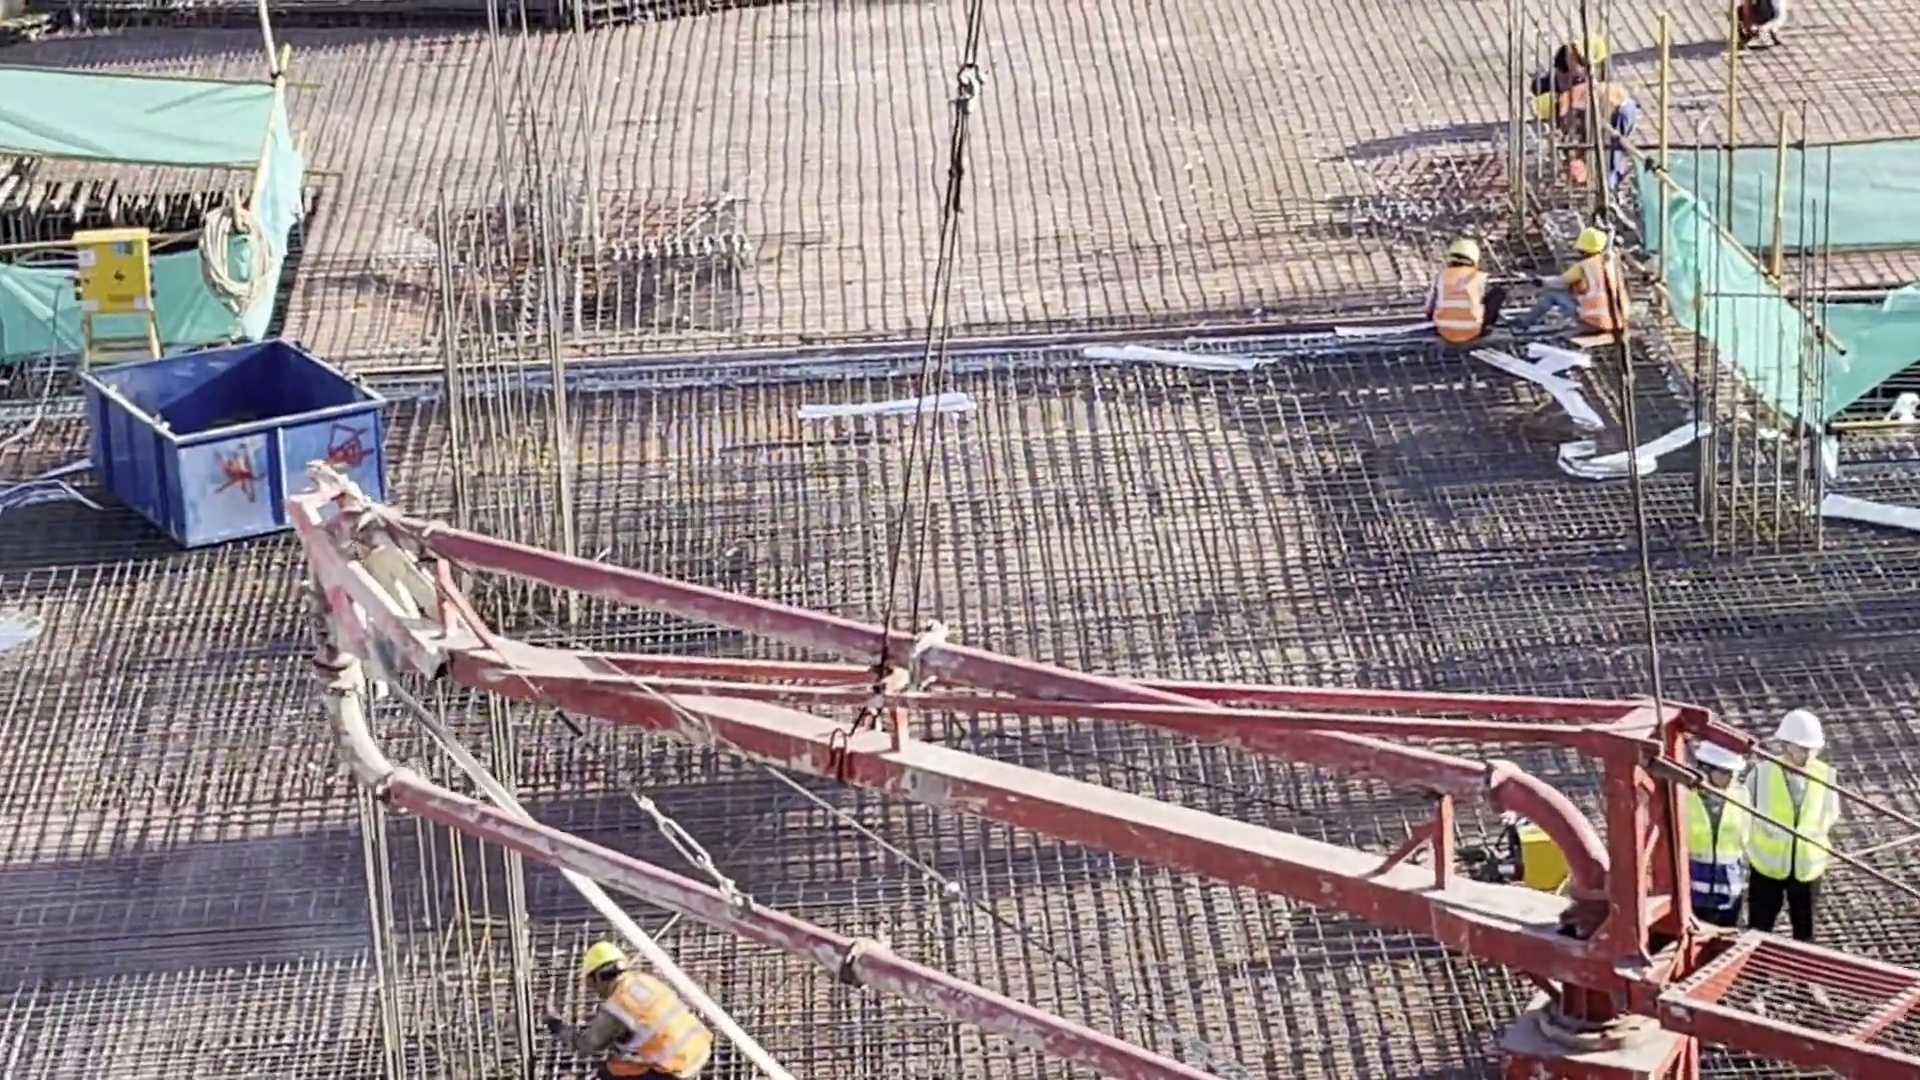ebox: (86, 227, 148, 313)
helmet: (575, 941, 631, 975), (1782, 719, 1832, 753), (1707, 742, 1750, 771), (1573, 37, 1605, 73), (1526, 94, 1553, 121), (1447, 236, 1477, 261), (1576, 230, 1608, 252)
hopper: (115, 370, 395, 542)
person: (1745, 706, 1849, 961), (534, 939, 721, 1080), (1512, 227, 1651, 358), (1673, 737, 1760, 908), (1429, 226, 1512, 376), (1526, 86, 1649, 186), (1518, 31, 1604, 91), (1711, 1, 1789, 60)
vest: (1767, 775, 1843, 907), (607, 979, 708, 1075), (1694, 798, 1751, 913), (1574, 265, 1627, 341), (1438, 261, 1480, 349), (1561, 86, 1615, 122)
